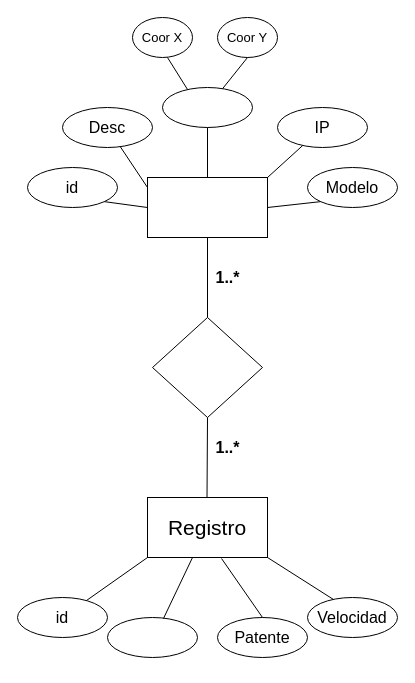
Some shapes in this 415 by 683 pixel diagram are drawn without their labels. Here are the shapes that lost their labels. From the top down, the centre of each, then its label:
At [207,107]: "Ubi".
At [207,207]: "Camara".
At [207,367]: "Registra".
At [152,637]: "Fecha".
